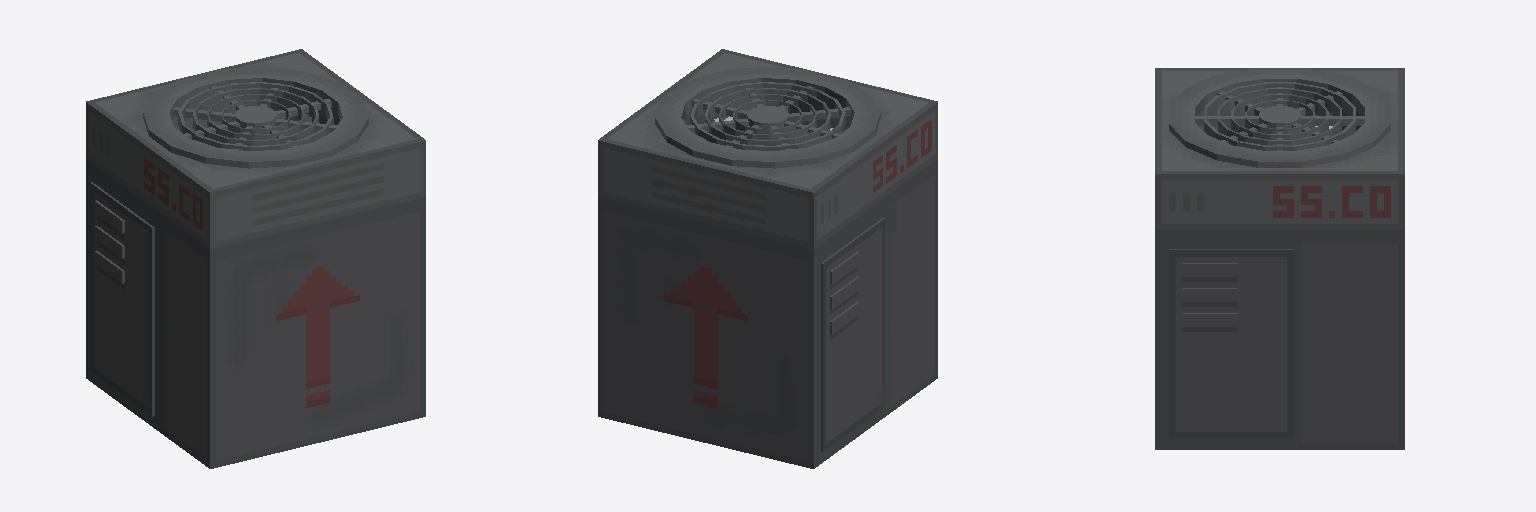
The picture shows the model from 3 angles: view 1: azimuth 30°, elevation 25°; view 2: azimuth 150°, elevation 25°; view 3: azimuth 270°, elevation 25°; orthographic projection.
Visible parts, largest first — view 1: Box, Case, Shroud, Panel1; view 2: Box, Case, Shroud, Panel1; view 3: Box, Case, Panel2, Shroud.
Part boxes in pixels (left/top/right/bottom): Box: left=86, top=165, right=425, bottom=468; Case: left=86, top=49, right=425, bottom=255; Shroud: left=143, top=67, right=368, bottom=168; Panel1: left=90, top=182, right=154, bottom=416; Box: left=598, top=165, right=937, bottom=468; Case: left=598, top=49, right=937, bottom=255; Shroud: left=655, top=67, right=880, bottom=168; Panel1: left=821, top=218, right=884, bottom=451; Box: left=1155, top=236, right=1404, bottom=449; Case: left=1155, top=68, right=1404, bottom=235; Panel2: left=1169, top=249, right=1293, bottom=438; Shroud: left=1169, top=68, right=1390, bottom=167.
Size of the model in its own units: 1.18 by 1.41 by 1.12.
Materials: 1 (1 with a texture image).